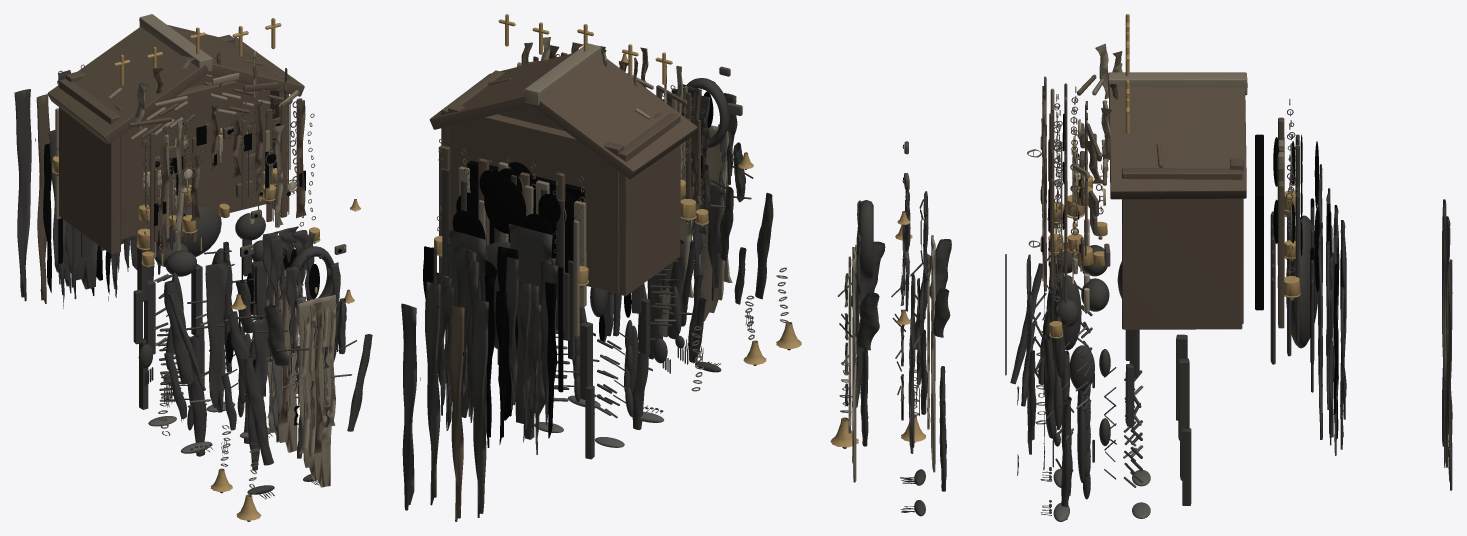
File: penance_carrier_end_goal_v19_front_identity_lock.glb
The picture shows the model from 3 angles, left to right: view 1: azimuth 30°, elevation 25°; view 2: azimuth 150°, elevation 25°; view 3: azimuth 270°, elevation 25°; orthographic projection. The views are drawn at different scales.
Parts seen in each view (by area): view 1: PC_V4_shrine_front_rotten_wall, PC_V4_shrine_left_side_wall, PC_V4_roof_left_steep_slab, PC_V19_broad_rotten_door_mask_target_read, PC_V18_back_rotten_hanging_tongue_00, PC_V11_left_torn_front_cloak_sheet, PC_V4_roof_right_steep_slab, PC_V18_back_rotten_hanging_tongue_01, PC_V15_rotten_wood_door_mask_broad_read, PC_V4_roof_ridge_heavy_rot, PC_V4_hunched_upper_back_mass, PC_V19_left_hero_arm_heavy_reaching_bell (+45 smaller); view 2: PC_V4_shrine_rear_rotten_wall, PC_V4_roof_left_steep_slab, PC_V4_shrine_left_side_wall, PC_V4_roof_right_steep_slab, PC_V11_back_rotten_skin_sheet_left, PC_V18_back_rotten_hanging_tongue_00, PC_V18_back_rotten_hanging_tongue_02, PC_V18_back_rotten_hanging_tongue_03, PC_V18_back_rotten_hanging_tongue_01, PC_V19_broad_rotten_door_mask_target_read, PC_V11_back_deep_rotted_hole_01, PC_V4_roof_ridge_heavy_rot (+50 smaller); view 3: PC_V4_shrine_right_side_wall, PC_V4_roof_right_steep_slab, PC_V4_roof_ridge_heavy_rot, PC_V11_back_swollen_rotten_under_mass, PC_V4_back_black_rotten_hollow, PC_V15_rotten_wood_door_mask_broad_read, PC_V19_primary_hood_arch_clear_head_read, PC_V19_broad_rotten_door_mask_target_read, PC_V5_back_rotten_vertical_plank_07, PC_V18_back_rotten_hanging_tongue_03, PC_V11_5_right_leg_compressed_wrapped_sculpt, PC_V19_right_hunched_shoulder_pressing_door (+10 smaller).
Part boxes in pixels (x1,y1,x2,y2): PC_V4_shrine_front_rotten_wall: [115, 80, 270, 239]; PC_V4_shrine_left_side_wall: [59, 79, 120, 254]; PC_V4_roof_left_steep_slab: [47, 27, 209, 144]; PC_V19_broad_rotten_door_mask_target_read: [298, 294, 336, 487]; PC_V18_back_rotten_hanging_tongue_00: [14, 89, 31, 301]; PC_V11_left_torn_front_cloak_sheet: [205, 261, 228, 412]; PC_V4_roof_right_steep_slab: [168, 25, 304, 96]; PC_V18_back_rotten_hanging_tongue_01: [36, 94, 49, 303]; PC_V15_rotten_wood_door_mask_broad_read: [266, 261, 298, 452]; PC_V4_roof_ridge_heavy_rot: [139, 14, 212, 71]; PC_V4_hunched_upper_back_mass: [156, 206, 221, 256]; PC_V19_left_hero_arm_heavy_reaching_bell: [244, 356, 273, 465]; PC_V4_shrine_rear_rotten_wall: [448, 104, 624, 293]; PC_V4_roof_left_steep_slab: [532, 54, 697, 179]; PC_V4_shrine_left_side_wall: [617, 113, 680, 296]; PC_V4_roof_right_steep_slab: [429, 54, 571, 129]; PC_V11_back_rotten_skin_sheet_left: [508, 223, 552, 423]; PC_V18_back_rotten_hanging_tongue_00: [471, 298, 488, 517]; PC_V18_back_rotten_hanging_tongue_02: [425, 281, 440, 505]; PC_V18_back_rotten_hanging_tongue_03: [401, 303, 416, 510]; PC_V18_back_rotten_hanging_tongue_01: [450, 305, 464, 521]; PC_V19_broad_rotten_door_mask_target_read: [691, 125, 728, 321]; PC_V11_back_deep_rotted_hole_01: [484, 178, 526, 233]; PC_V4_roof_ridge_heavy_rot: [524, 43, 600, 105]; PC_V4_shrine_right_side_wall: [1122, 168, 1242, 329]; PC_V4_roof_right_steep_slab: [1109, 87, 1246, 199]; PC_V4_roof_ridge_heavy_rot: [1108, 72, 1247, 94]; PC_V11_back_swollen_rotten_under_mass: [1286, 215, 1318, 348]; PC_V4_back_black_rotten_hollow: [1255, 134, 1263, 310]; PC_V15_rotten_wood_door_mask_broad_read: [930, 235, 935, 472]; PC_V19_primary_hood_arch_clear_head_read: [859, 200, 873, 279]; PC_V19_broad_rotten_door_mask_target_read: [852, 247, 856, 482]; PC_V5_back_rotten_vertical_plank_07: [1278, 181, 1284, 328]; PC_V18_back_rotten_hanging_tongue_03: [1448, 259, 1452, 490]; PC_V11_5_right_leg_compressed_wrapped_sculpt: [1061, 396, 1071, 519]; PC_V19_right_hunched_shoulder_pressing_door: [857, 291, 879, 350].
Bounding box in the file's own units: 2.34 × 4.48 × 5.48.
